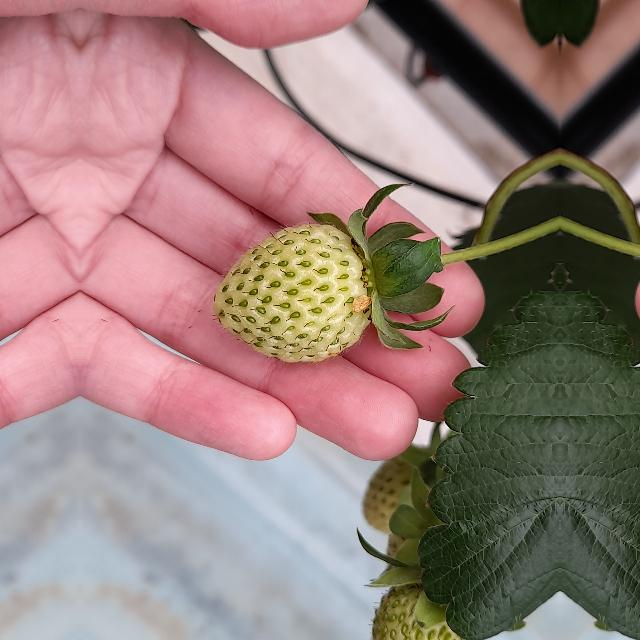Health_25: (214, 224, 372, 362)
